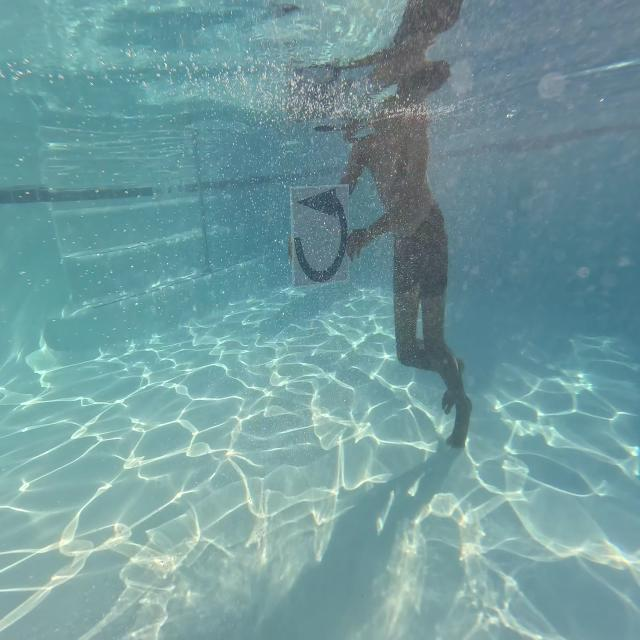blue_side: (288, 182, 352, 286)
